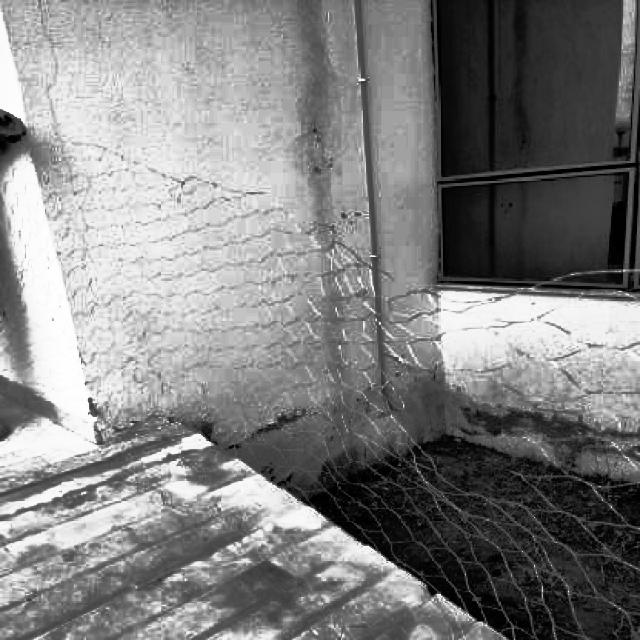anomaly-fence: (349, 243, 640, 514)
